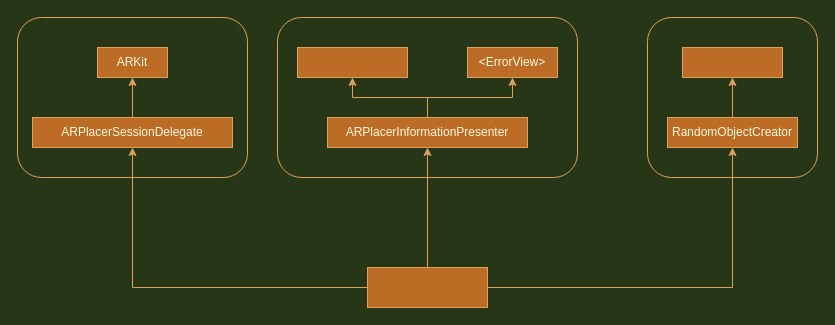
Image size: 835x325. Some labels were removed from this diagram. The shapes that lost their labels are listed below. From the top down, each one's centre as x and y in pixels, then its label:
the point at 352,62: <InformationView>
the point at 732,62: RandomObject
the point at 427,287: Main App
